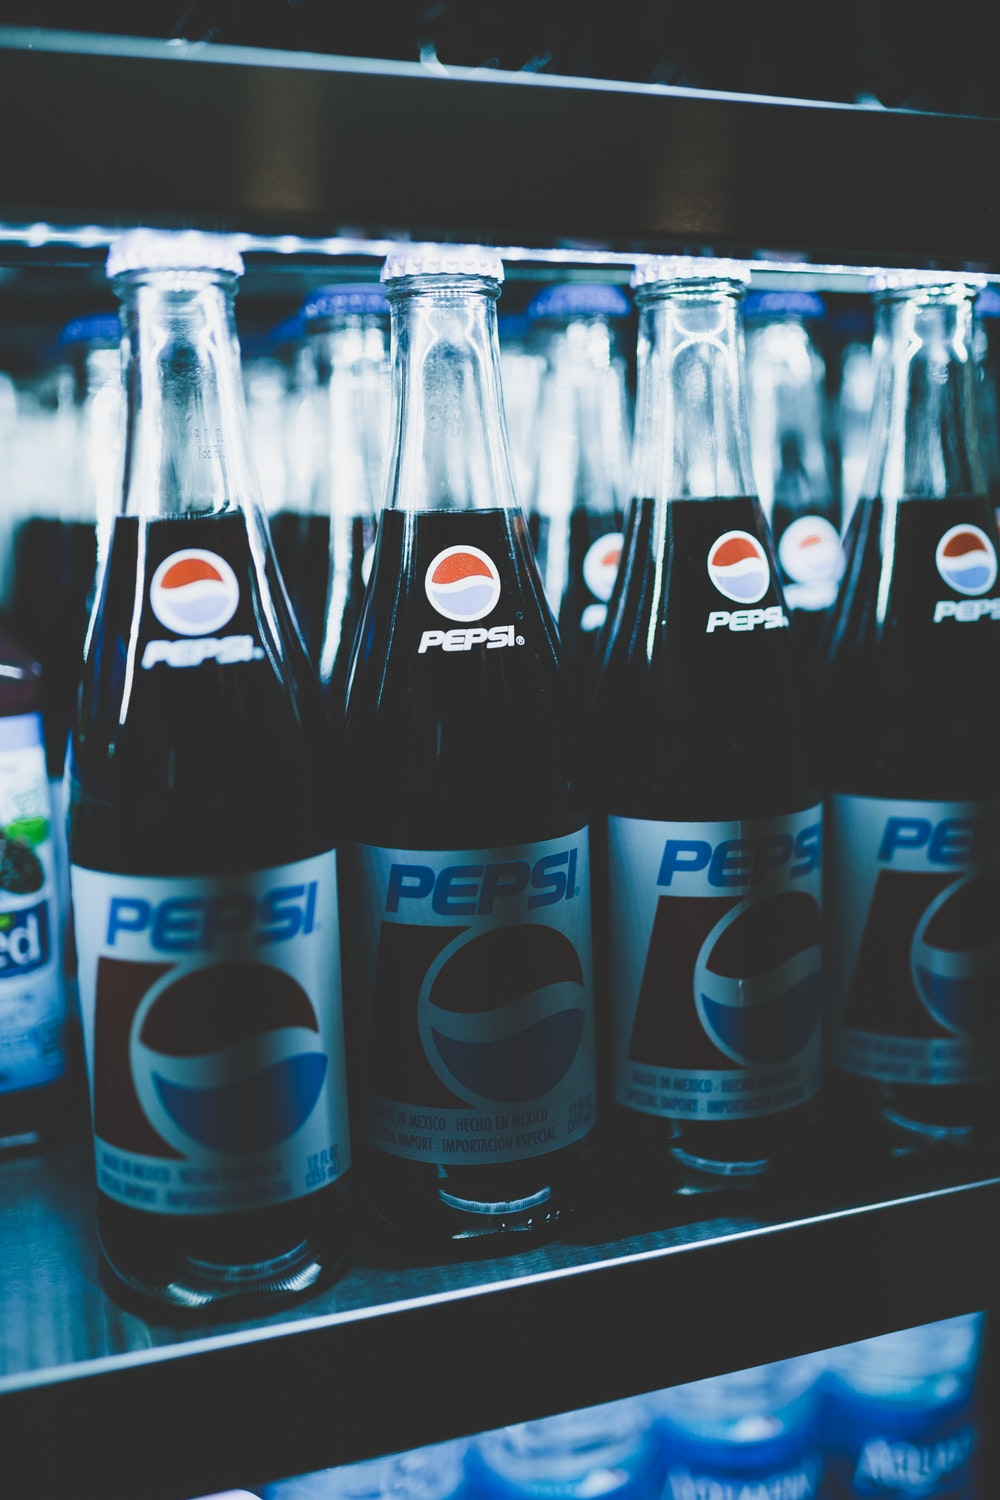pepsi: (140, 956, 323, 1155), (427, 921, 586, 1108), (435, 921, 586, 1108), (692, 892, 826, 1061), (714, 892, 826, 1061), (907, 862, 979, 1037), (150, 546, 235, 629), (916, 508, 997, 593), (419, 533, 498, 614), (421, 532, 500, 612), (421, 542, 500, 622), (700, 525, 769, 605), (930, 516, 997, 593)
